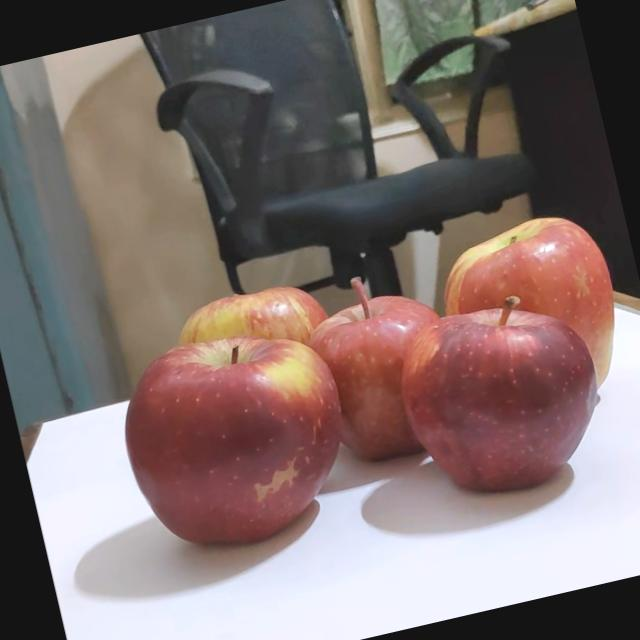apple: (122, 303, 394, 561), (411, 275, 640, 498), (292, 253, 482, 470), (434, 200, 634, 388), (160, 266, 355, 426)
